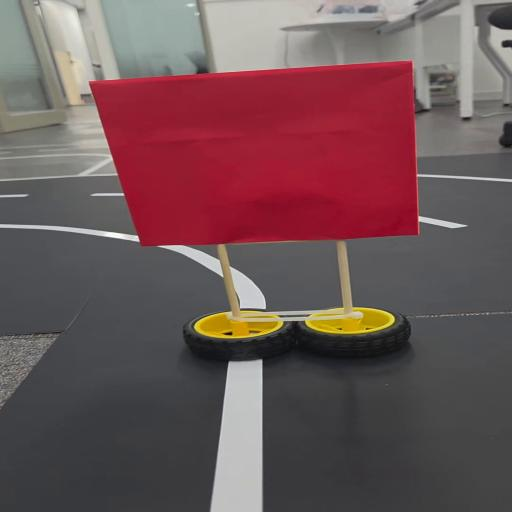Sign_A: (82, 65, 432, 361)
